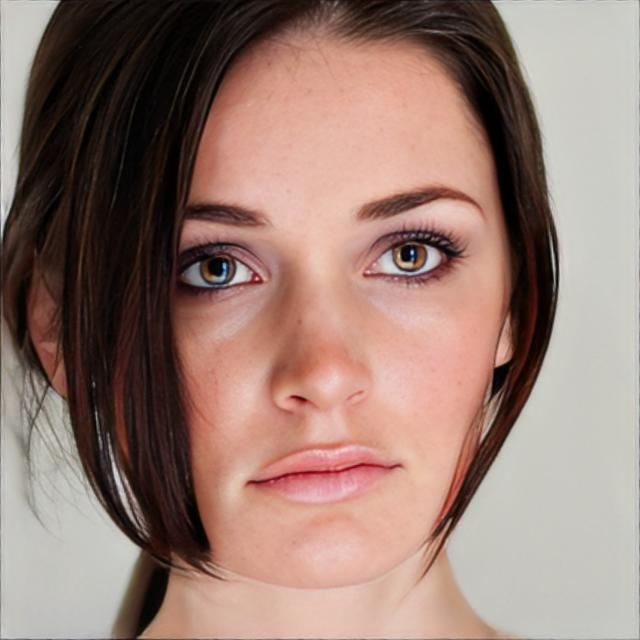neutral: (159, 24, 508, 592)
